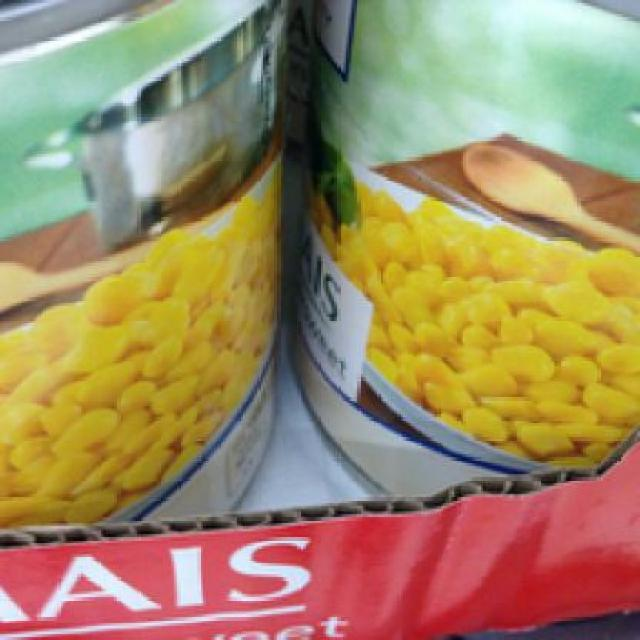Corn: (290, 0, 638, 492), (0, 0, 278, 535)
